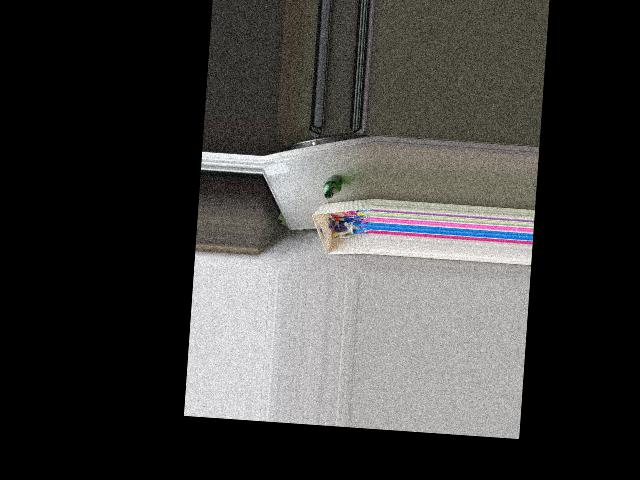beer: (324, 174, 343, 198)
